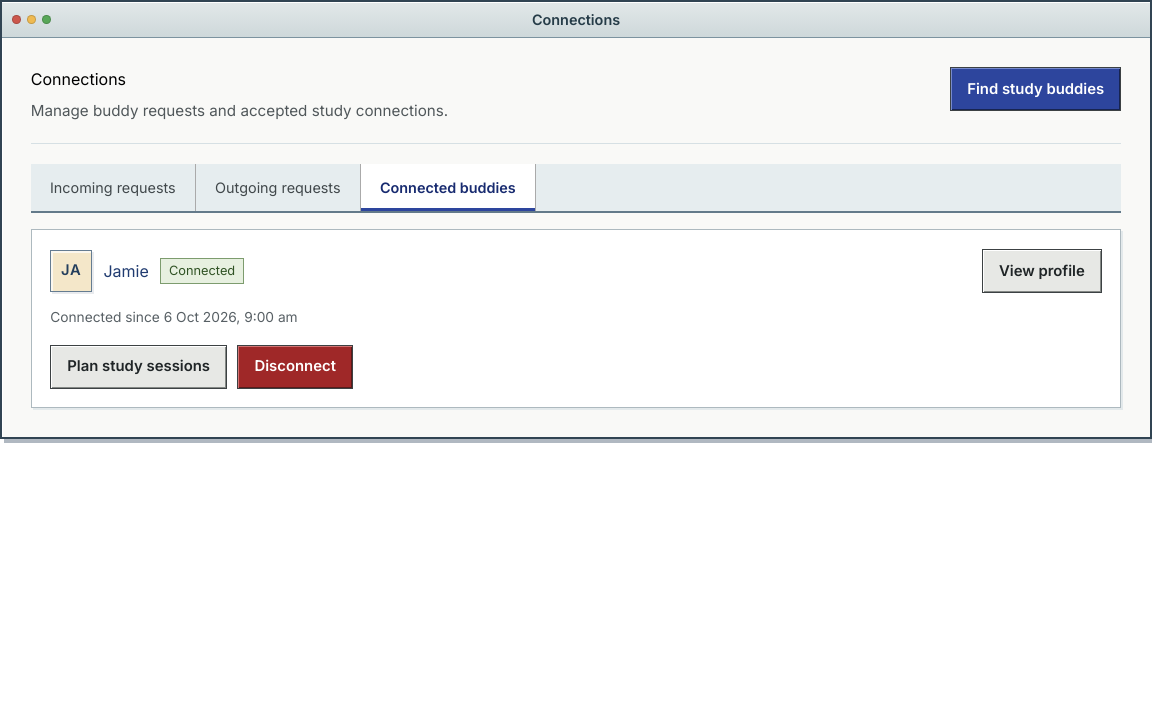
Test: buddy requests and connections › requires confirmation to disconnect and uses the connection endpoint
Click the button "Disconnect" at x=295, y=367, box [237, 345, 353, 389]
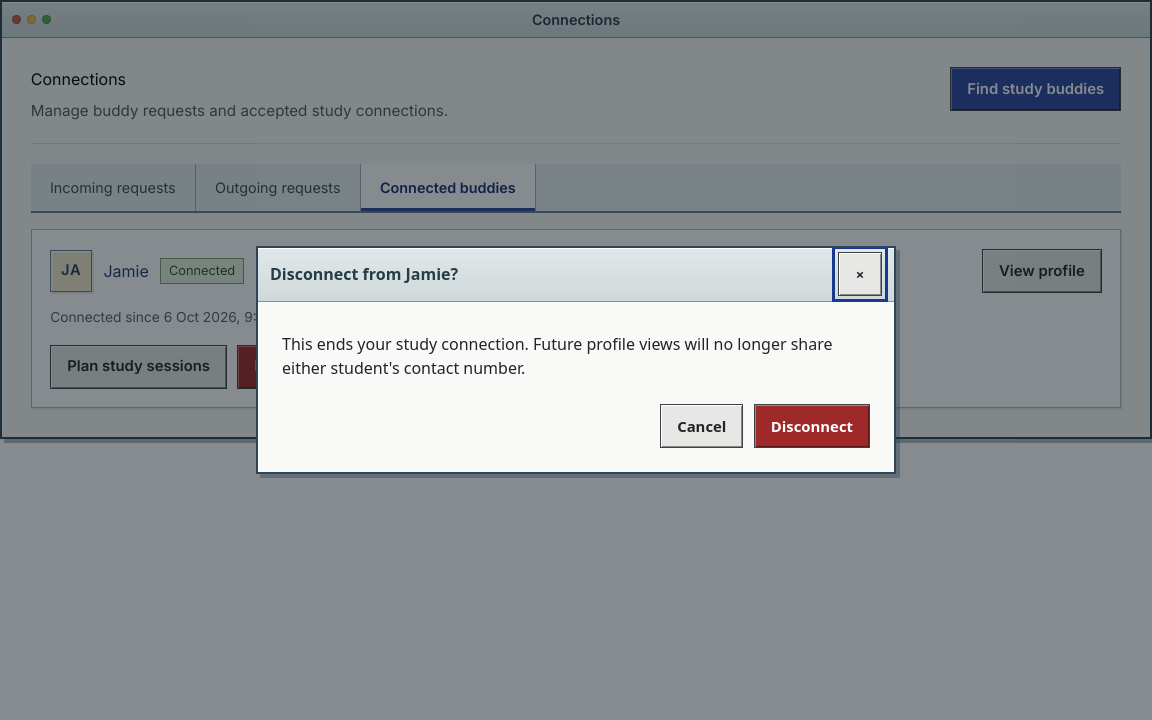
Now the dialog shows "no longer share", box [282, 334, 832, 380]
Click the button "Disconnect" at x=812, y=426, box [754, 404, 870, 448]
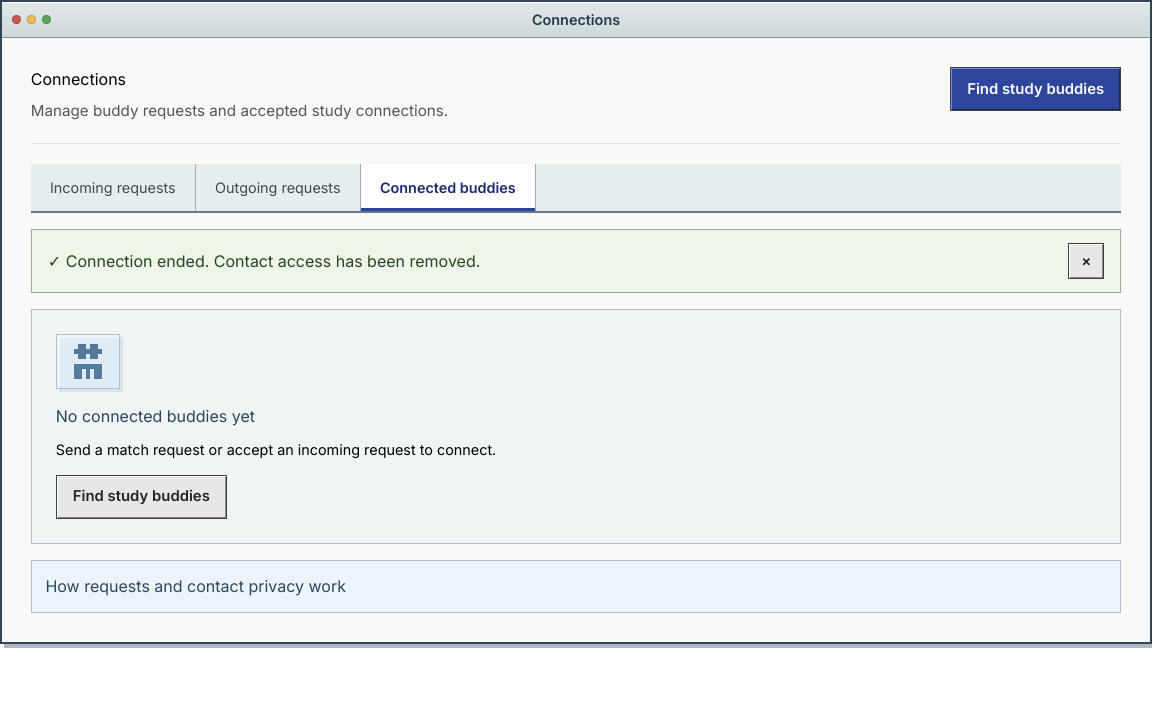
Now the heading "No connected buddies yet" is shown, box [56, 404, 255, 428]
